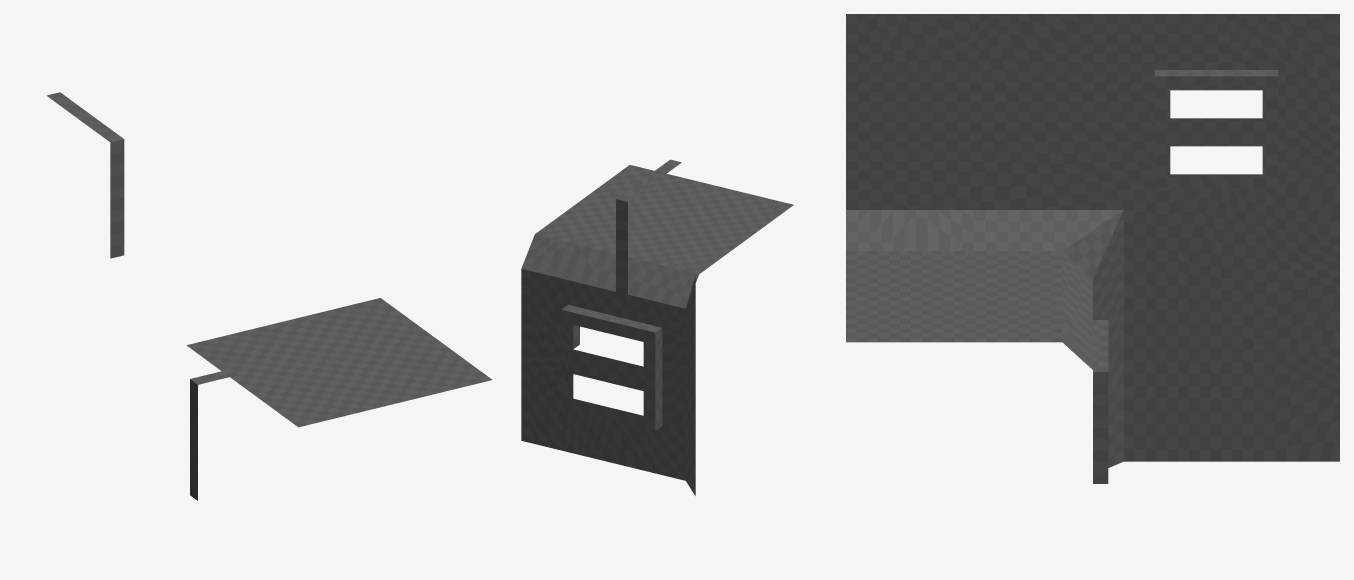
The picture shows the model from 3 angles, left to right: view 1: azimuth 30°, elevation 25°; view 2: azimuth 150°, elevation 25°; view 3: azimuth 270°, elevation 25°; orthographic projection. The views are drawn at different scales.
Parts seen in each view (by area): view 1: 2; view 2: 2; view 3: 2.
Boxes of the visible parts, x1,y1,x2,y2 form: 2: [46, 92, 492, 500]; 2: [521, 159, 793, 495]; 2: [846, 14, 1339, 483].
Size of the model in its own units: 2 by 4 by 4.
2 materials, 2 textured.
